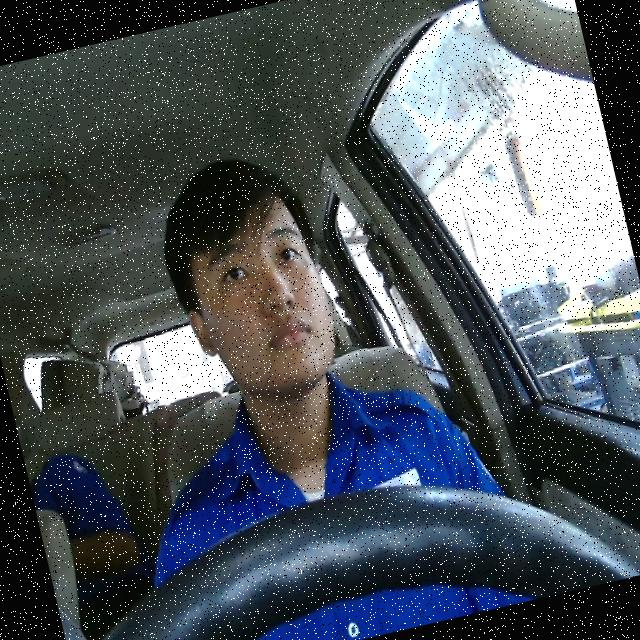seeing_right: (162, 182, 347, 412)
